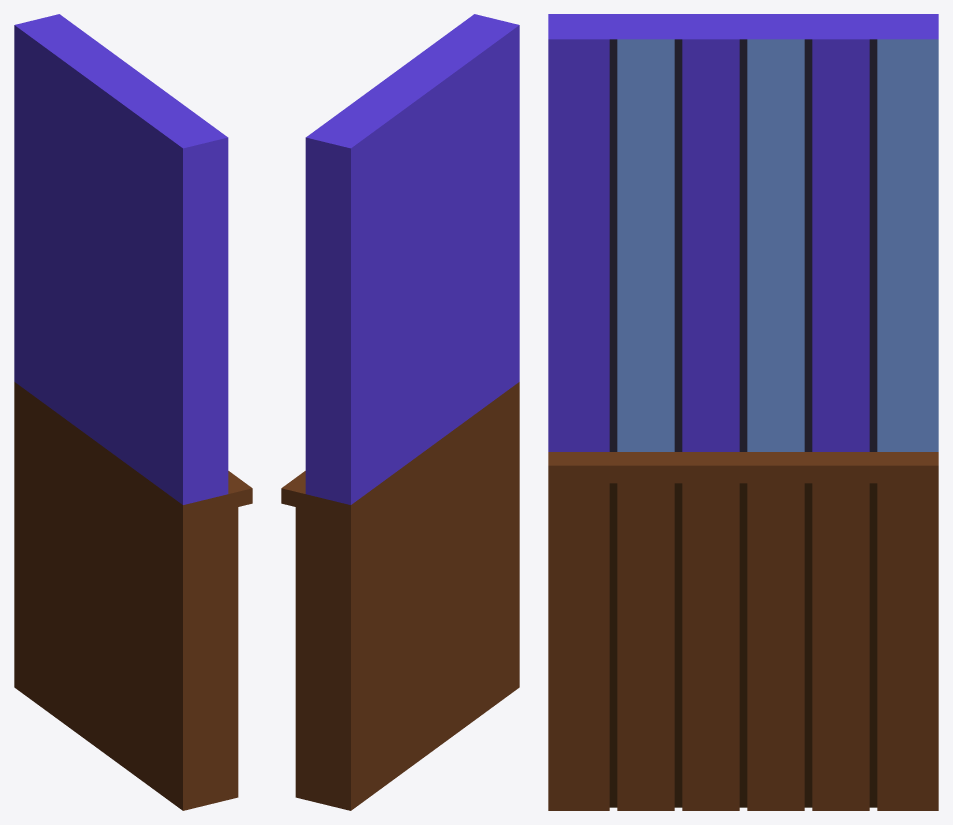
The model's file is Pared.fbx.
3 views of the same model, side by side, from view 1: azimuth 30°, elevation 25°; view 2: azimuth 150°, elevation 25°; view 3: azimuth 270°, elevation 25° (orthographic). The views are drawn at different scales.
Parts seen in each view (by area): view 1: Cubo.001; view 2: Cubo.001; view 3: Cubo.001.
Part boxes in pixels (x1=…): Cubo.001: x1=14, y1=14, x2=252, y2=810; Cubo.001: x1=281, y1=14, x2=519, y2=810; Cubo.001: x1=548, y1=14, x2=938, y2=810.
Bounding box in the file's own units: 143 × 1300 × 600.
